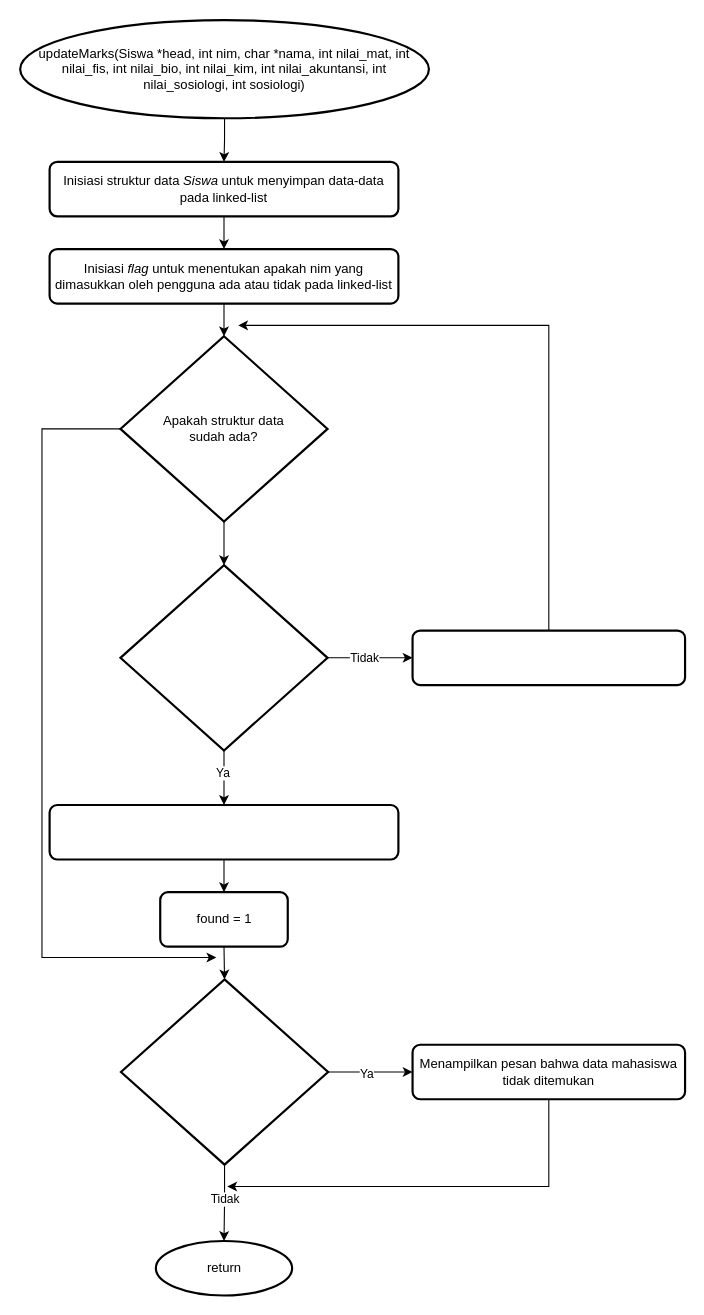
Some shapes in this 704 by 1315 pixel diagram are drawn without their labels. The centre of each missing label's shape, as x and y in pixels:
Apakah data NIM dari elemen yang sedang dicek == nim?: (223,657)
Apakah found == 0?: (224,1071)
Lanjut ke elemen linked-list selanjutnya: (548,657)
Menampilkan data mahasiswa: NIM, nama, dan semua nilai mata pelajaran: (223,831)
